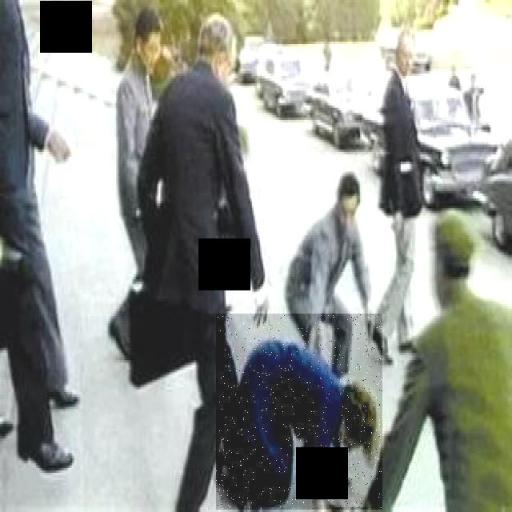Fall: (216, 314, 382, 510)
